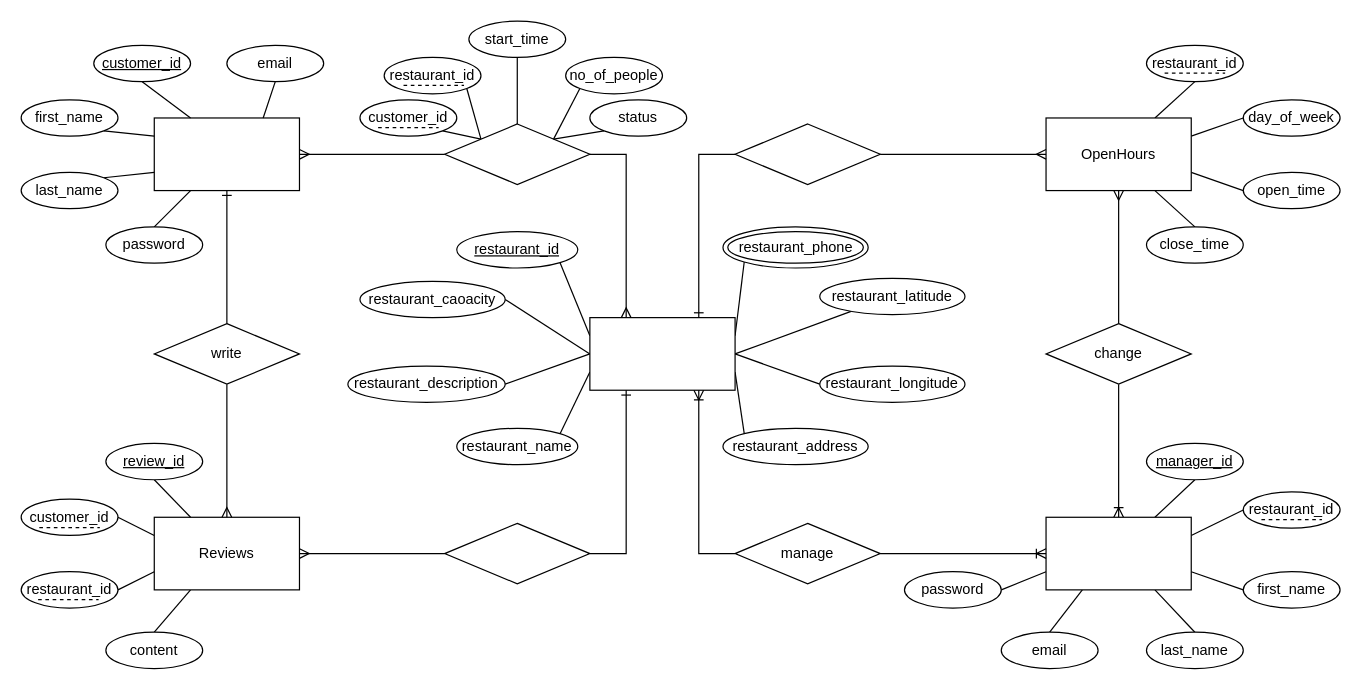
The diagram is 1361 pixels wide and 690 high, and some of its shapes have lost their labels. Each missing label, with the centre of its shape:
book: (516,154)
Customers: (226,154)
get: (516,553)
Managers: (1118,553)
open: (807,154)
Restaurants: (662,353)
